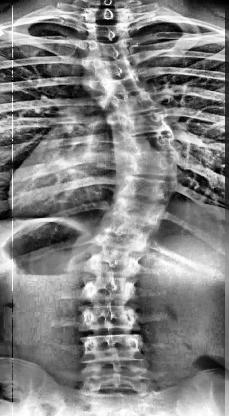Vertebrae: (76, 328, 146, 362), (83, 366, 153, 394), (84, 276, 142, 308), (85, 252, 146, 280), (96, 228, 148, 260), (122, 177, 174, 209), (79, 304, 137, 332), (105, 211, 157, 241), (127, 148, 181, 176), (128, 129, 180, 155), (113, 202, 161, 230), (110, 92, 160, 118), (125, 113, 173, 137), (105, 74, 148, 100), (88, 40, 130, 62), (86, 22, 132, 42), (95, 61, 135, 80)
